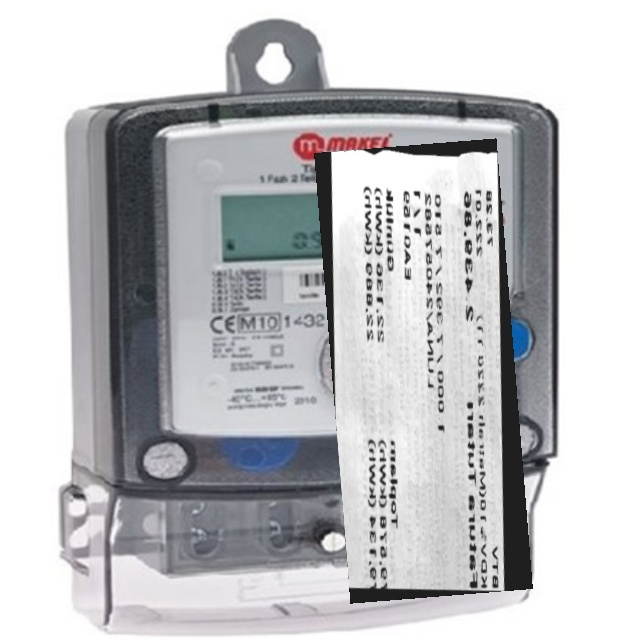electricity-bill: (313, 137, 532, 603)
